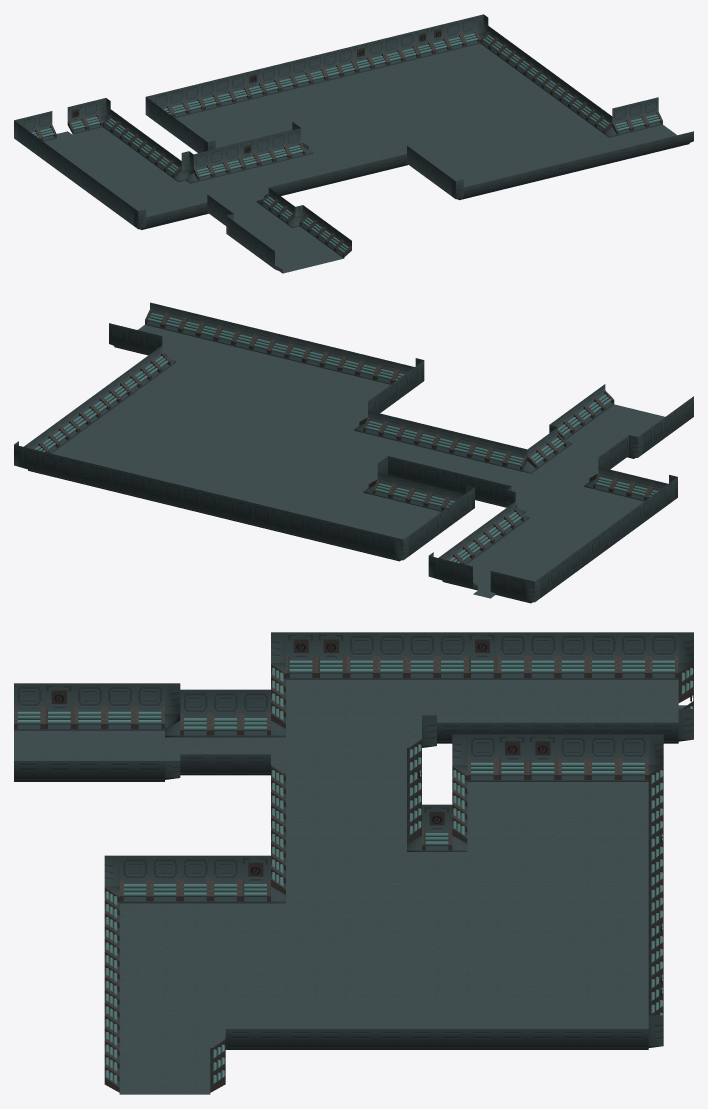
The model's file is MK_Ship_Room4.fbx.
The picture shows the model from 3 angles, top to bottom: view 1: azimuth 30°, elevation 25°; view 2: azimuth 150°, elevation 25°; view 3: azimuth 270°, elevation 25°; orthographic projection. The views are drawn at different scales.
Parts seen in each view (by area): view 1: MK_Ship_Wall255, MK_Ship_Wall295, MK_Ship_Wall346, MK_Ship_Wall270, MK_Ship_Wall288, MK_Ship_Wall277, MK_Ship_Wall275, MK_Ship_Wall258, MK_Ship_Wall261, MK_Ship_Wall283, MK_Ship_Wall273, MK_Ship_Wall278 (+21 smaller); view 2: MK_Ship_Wall01_Short220; view 3: MK_Ship_Wall236, MK_Ship_Wall291, MK_Ship_Wall235, MK_Ship_Wall237, MK_Ship_Wall292, MK_Ship_Wall293, MK_Ship_Wall290, MK_Ship_Wall294, MK_Ship_Wall230, MK_Ship_Wall233, MK_Ship_Wall245, MK_Ship_Wall244 (+21 smaller).
Boxes of the visible parts, x1,y1,x2,y2 form: MK_Ship_Wall255: [193, 150, 213, 181]; MK_Ship_Wall295: [612, 105, 632, 135]; MK_Ship_Wall346: [67, 103, 87, 134]; MK_Ship_Wall270: [168, 87, 188, 117]; MK_Ship_Wall288: [445, 20, 465, 50]; MK_Ship_Wall277: [276, 61, 296, 91]; MK_Ship_Wall275: [245, 68, 265, 99]; MK_Ship_Wall258: [239, 139, 259, 170]; MK_Ship_Wall261: [286, 128, 305, 158]; MK_Ship_Wall283: [368, 38, 388, 69]; MK_Ship_Wall273: [215, 76, 234, 107]; MK_Ship_Wall278: [291, 57, 311, 88]; MK_Ship_Wall01_Short220: [504, 445, 527, 471]; MK_Ship_Wall236: [210, 689, 240, 737]; MK_Ship_Wall291: [210, 855, 240, 903]; MK_Ship_Wall235: [180, 689, 210, 737]; MK_Ship_Wall237: [240, 689, 270, 737]; MK_Ship_Wall292: [180, 855, 210, 903]; MK_Ship_Wall293: [150, 855, 180, 903]; MK_Ship_Wall290: [240, 855, 270, 903]; MK_Ship_Wall294: [119, 855, 149, 903]; MK_Ship_Wall230: [14, 683, 44, 730]; MK_Ship_Wall233: [104, 683, 134, 730]; MK_Ship_Wall245: [346, 632, 376, 679]; MK_Ship_Wall244: [467, 632, 497, 679].
Size of the model in its own units: 16.5 by 0.75 by 11.25.
9 materials, 9 textured.
